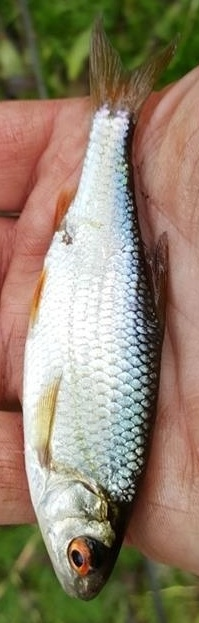Rutilus rutilus: (20, 20, 179, 603)
